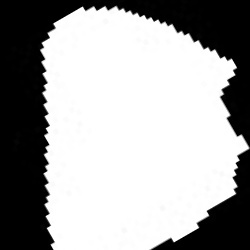spot: (40, 6, 249, 248)
